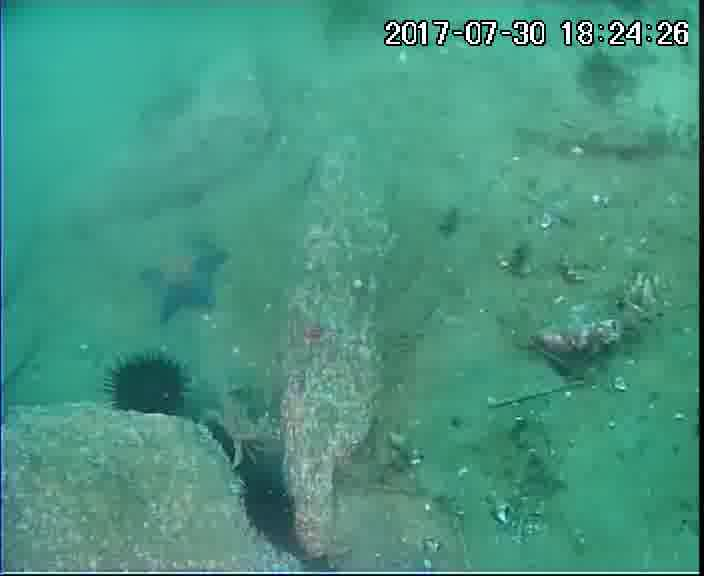echinus: (108, 354, 191, 419), (241, 473, 299, 543)
starfish: (140, 233, 233, 325)
